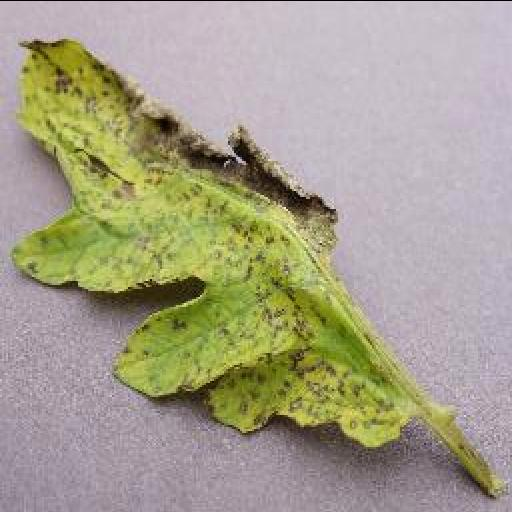disease_tomato: (11, 36, 413, 449)
